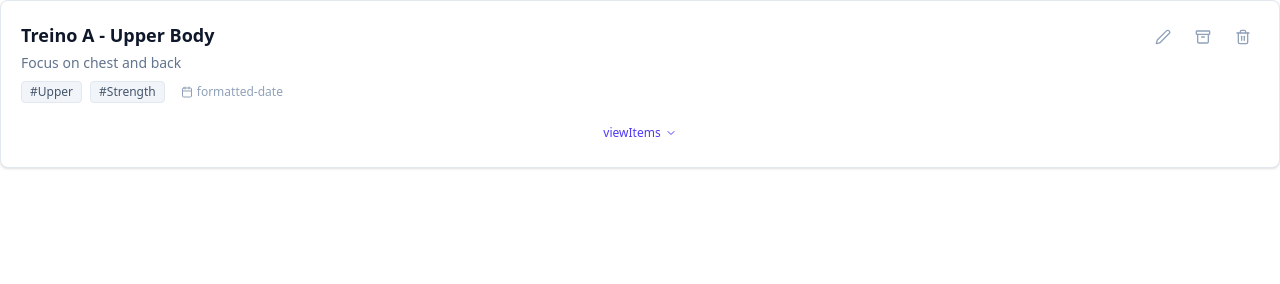
Test case: WorkoutCard › expand shows exercises
The width and height of the screenshot is (1280, 284).
# Click the expand button
Click the button "viewItems" at {"x": 640, "y": 133}, box [21,119,1259,147]
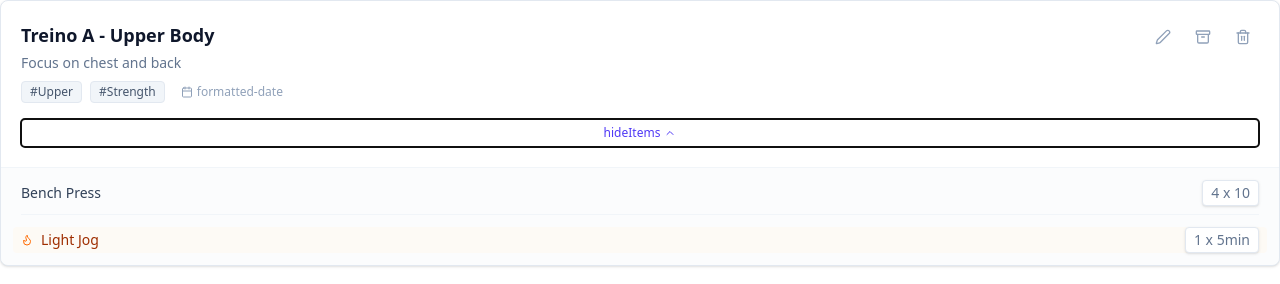
Expected: the text "Bench Press" is shown, [21,183,101,203]
Expected: the text "Light Jog" is shown, [41,230,99,250]
